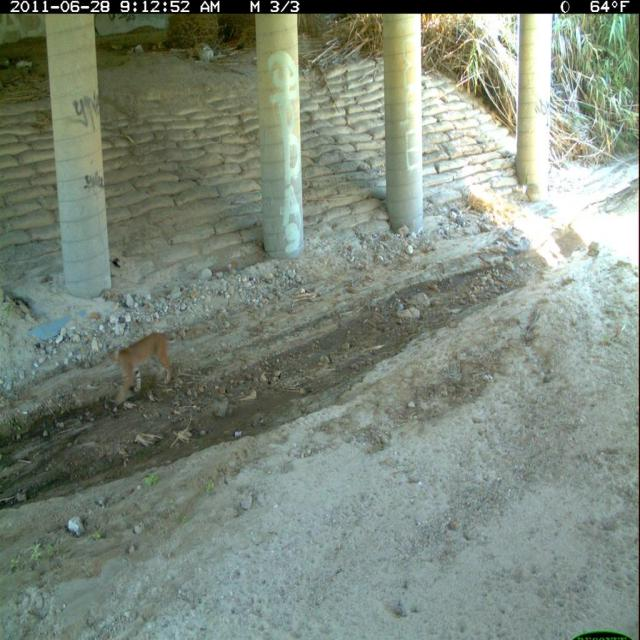bobcat: (105, 327, 177, 409)
